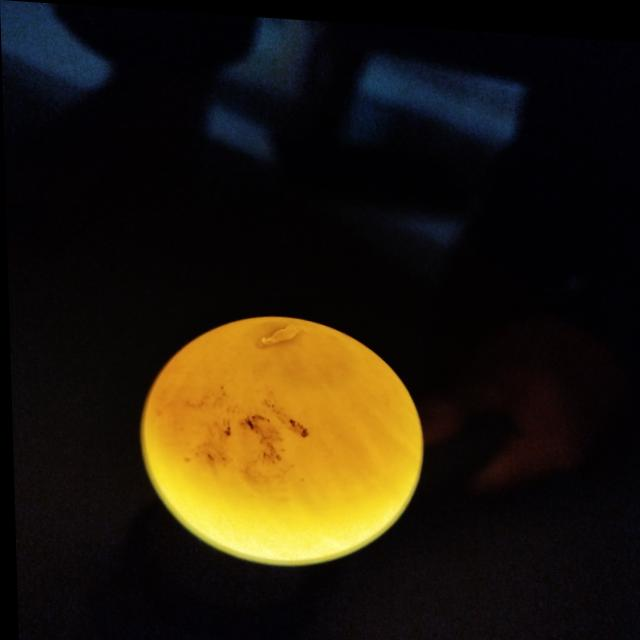Rachadura: (258, 320, 304, 343)
